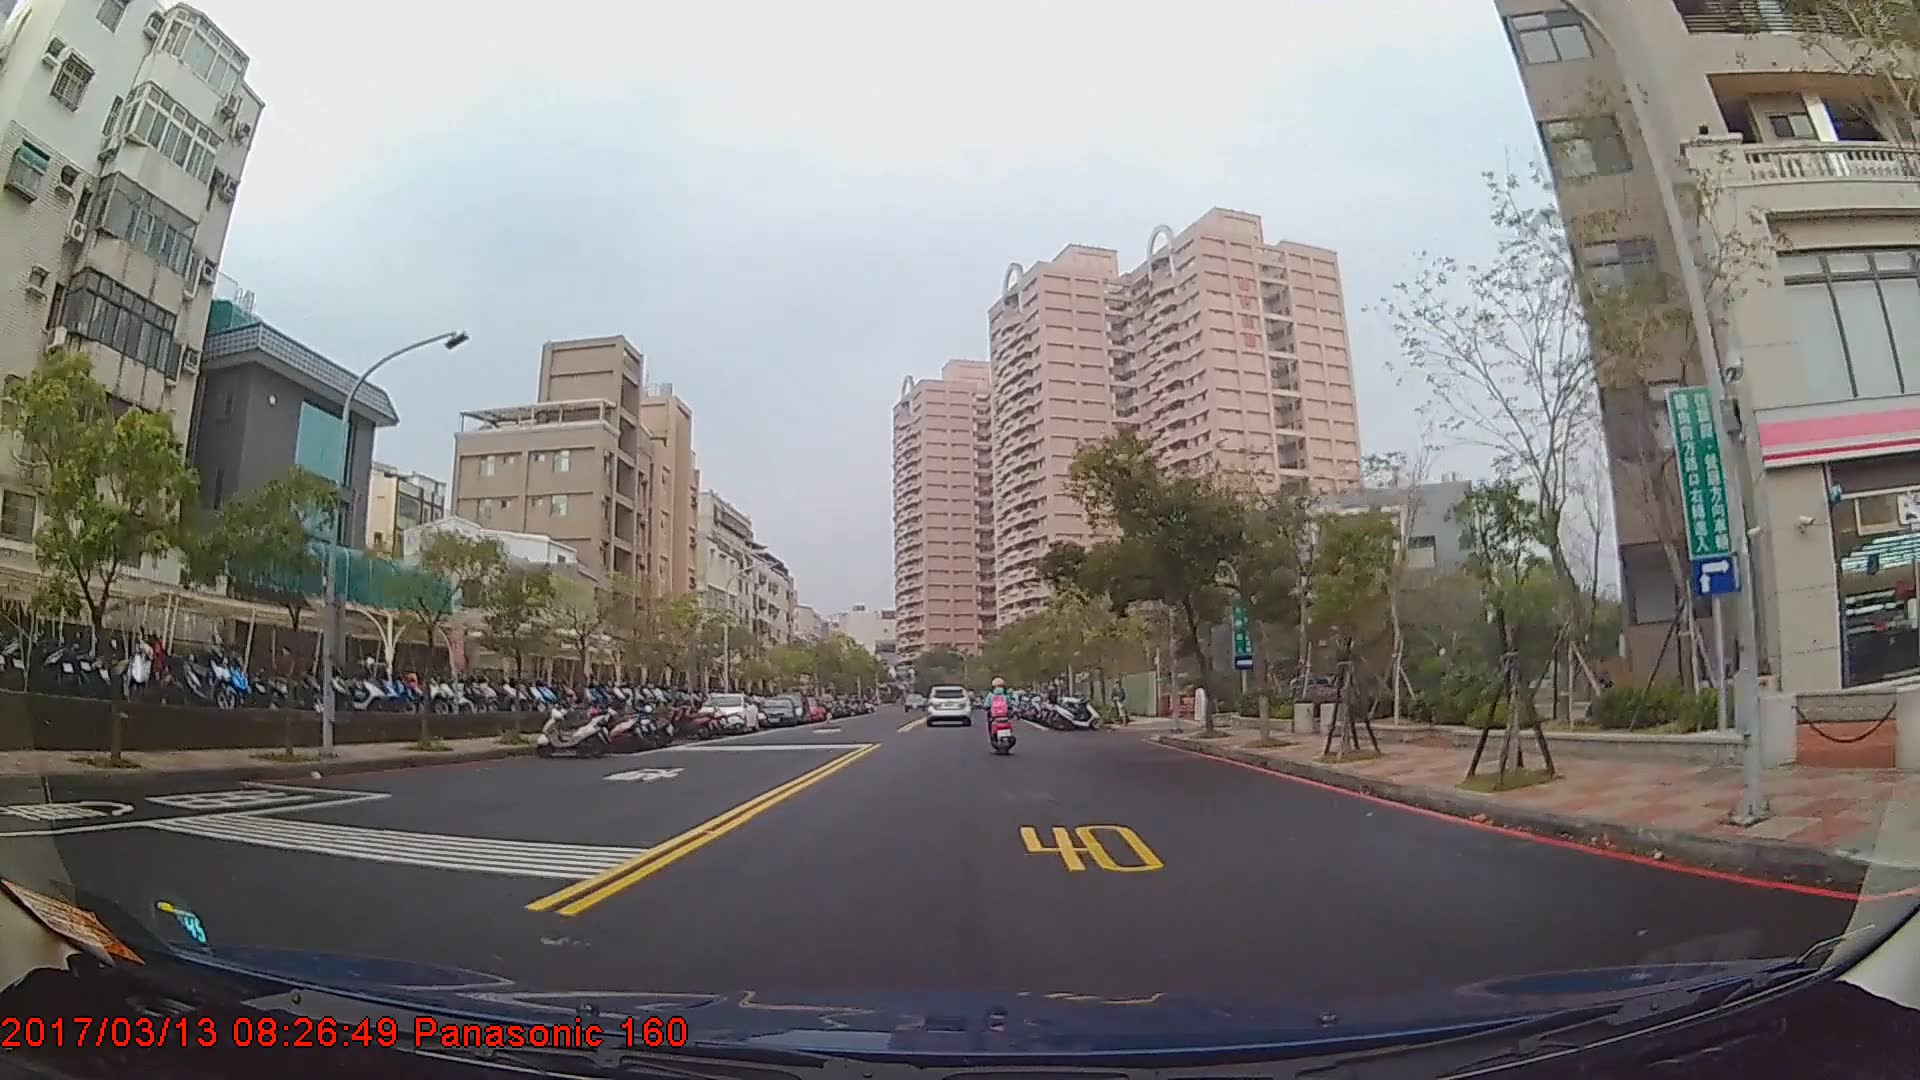pedestrian: (1110, 681, 1130, 726)
rider: (983, 679, 1017, 754)
vehicle: (696, 691, 760, 734), (921, 683, 972, 728), (755, 694, 798, 729)
